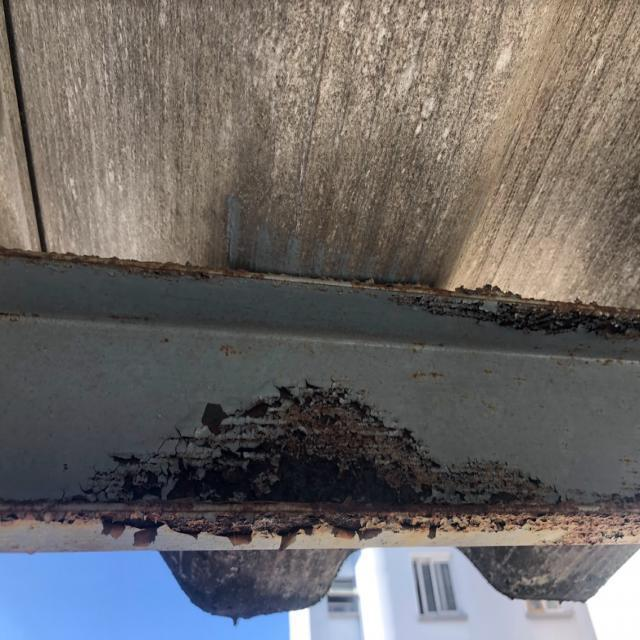Corrosion: (0, 246, 639, 554), (74, 375, 561, 506)
